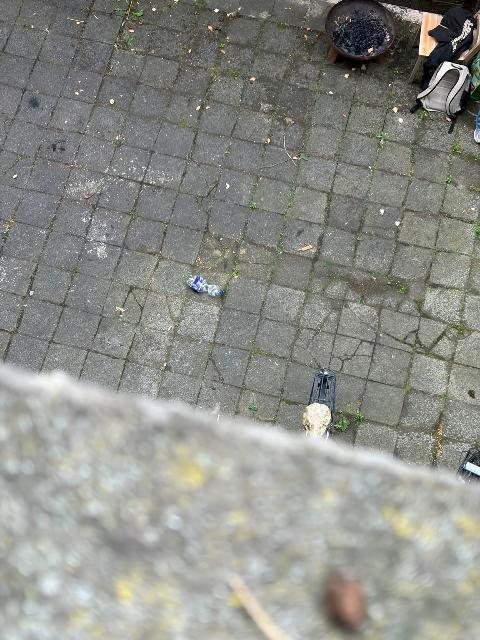plastic_bottle: (186, 275, 223, 297)
